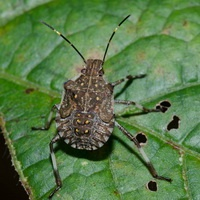insect: (32, 15, 171, 198)
